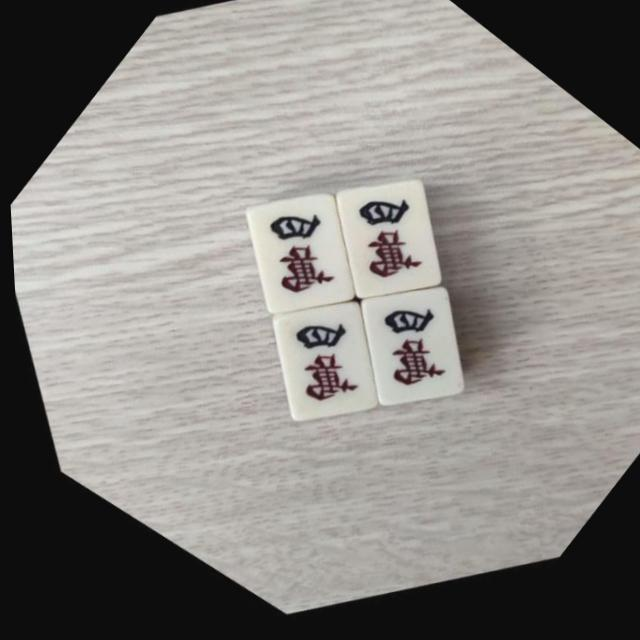sc4: (306, 263, 494, 447), (286, 154, 471, 336), (202, 169, 386, 350), (225, 279, 406, 456)
